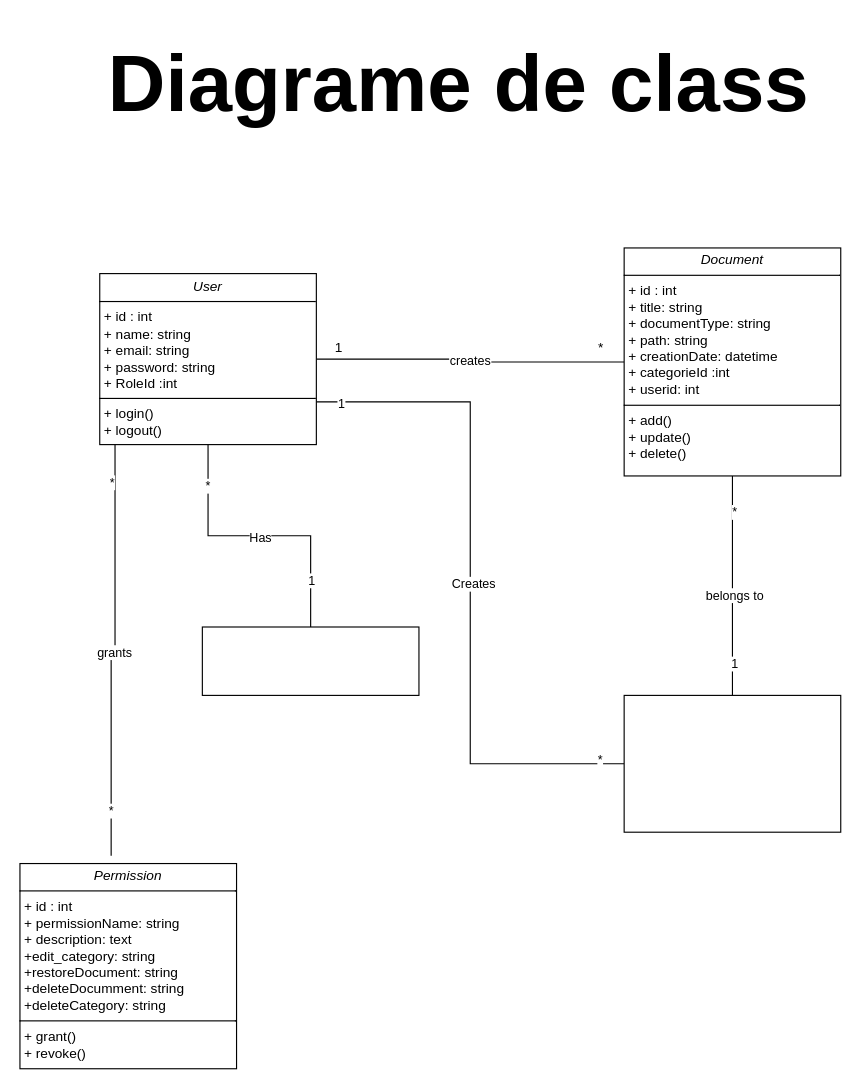
Image size: 861x1089. Some labels were removed from this diagram. The shapes that lost their labels are listed below. From the top down, each one's centre as x and y in pixels, then its label:
At (x=310, y=660): "Role + id : int + name : string".
At (x=732, y=763): "Category + id : int + label: string + add() + update() + delete()".
